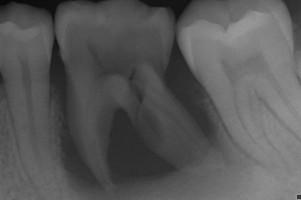Dental Caries: (52, 76, 245, 200)
